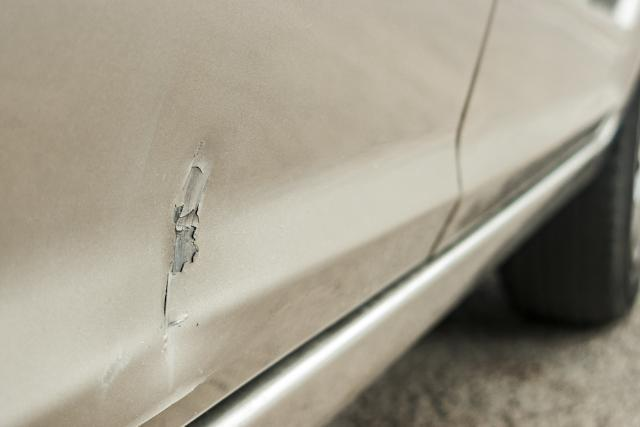Door: (82, 119, 371, 388)
